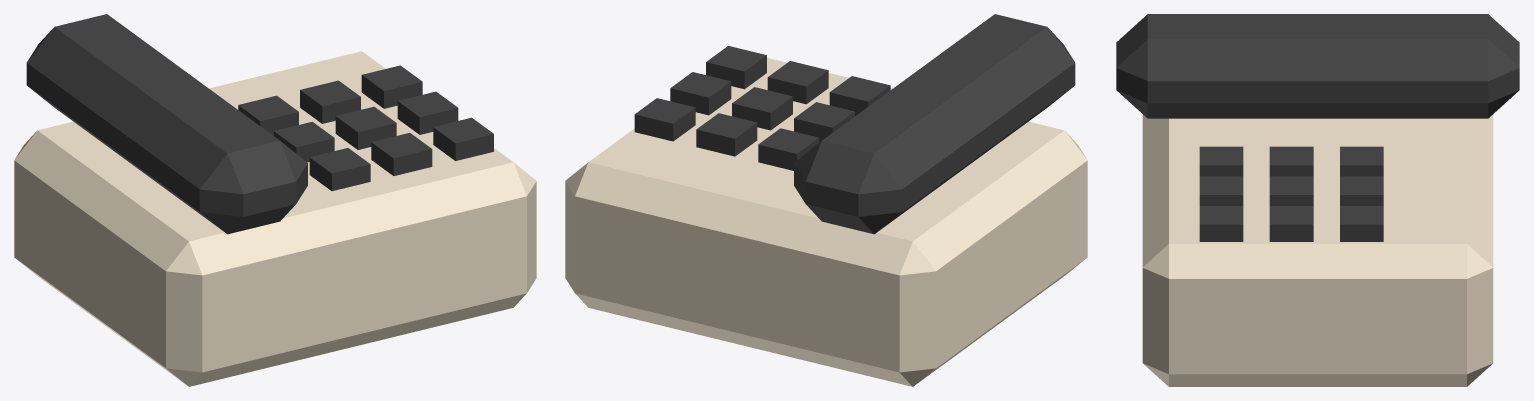
3 views of the same model, side by side, from view 1: azimuth 30°, elevation 25°; view 2: azimuth 150°, elevation 25°; view 3: azimuth 270°, elevation 25° (orthographic).
Visible parts, largest first — view 1: Telephone base, Handset, Key, Key.003, Key.006, Key.004, Key.007, Key.008, Key.005, Key.001, Key.002; view 2: Telephone base, Handset, Key.008, Key.005, Key.007, Key.003, Key.004, Key.006, Key.002, Key, Key.001; view 3: Telephone base, Handset, Key.006, Key.007, Key.008, Key.001, Key, Key.002, Key.003, Key.004, Key.005.
Part boxes in pixels (box(x1,y1,x2,y2)): Telephone base: box(14, 51, 536, 386); Handset: box(26, 14, 307, 234); Key: box(309, 148, 370, 191); Key.003: box(371, 133, 432, 175); Key.006: box(433, 117, 493, 160); Key.004: box(335, 106, 396, 149); Key.007: box(397, 91, 458, 134); Key.008: box(361, 65, 422, 108); Key.005: box(300, 80, 360, 123); Key.001: box(274, 121, 334, 162); Key.002: box(238, 95, 298, 135); Telephone base: box(565, 58, 1087, 386); Handset: box(794, 14, 1075, 234); Key.008: box(634, 98, 695, 141); Key.005: box(696, 113, 757, 156); Key.007: box(670, 72, 731, 115); Key.003: box(767, 61, 828, 104); Key.004: box(732, 87, 792, 130); Key.006: box(706, 46, 766, 89); Key.002: box(758, 128, 819, 170); Key: box(829, 76, 890, 115); Key.001: box(794, 102, 854, 142); Telephone base: box(1142, 114, 1493, 386); Handset: box(1116, 14, 1519, 118); Key.006: box(1199, 206, 1243, 241); Key.007: box(1269, 206, 1313, 241); Key.008: box(1340, 206, 1383, 241); Key.001: box(1269, 146, 1313, 176); Key: box(1199, 146, 1243, 176); Key.002: box(1340, 146, 1383, 176); Key.003: box(1199, 176, 1243, 205); Key.004: box(1269, 176, 1313, 205); Key.005: box(1340, 176, 1383, 205).
Bounding box in the file's own units: 24 × 14.5 × 23.
